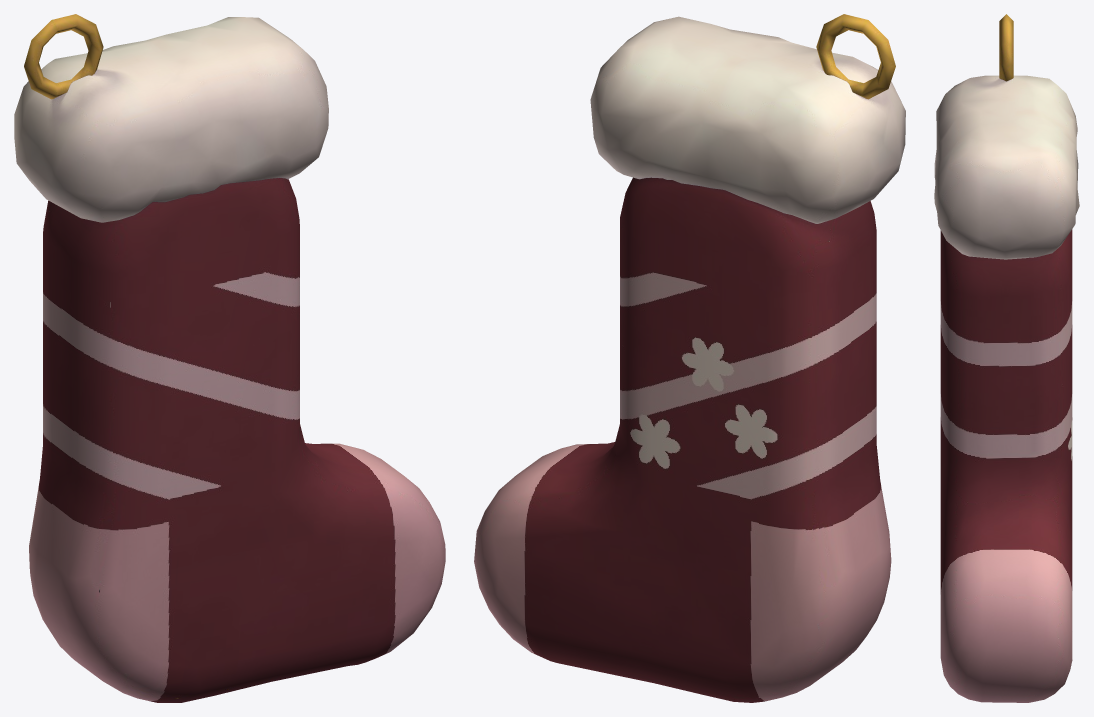
File: stocking.glb
3 views of the same model, side by side, from view 1: azimuth 30°, elevation 25°; view 2: azimuth 150°, elevation 25°; view 3: azimuth 270°, elevation 25° (orthographic). The views are drawn at different scales.
Visible parts, largest first — view 1: Sock, Cuff, Loop; view 2: Sock, Cuff, Loop; view 3: Sock, Cuff, Loop.
Part boxes in pixels (box(x1,y1,x2,y2)): Sock: box(29, 178, 445, 702); Cuff: box(14, 17, 328, 222); Loop: box(24, 14, 103, 99); Sock: box(474, 177, 891, 702); Cuff: box(590, 16, 905, 223); Loop: box(816, 14, 895, 99); Sock: box(940, 229, 1072, 702); Cuff: box(934, 75, 1079, 259); Loop: box(999, 14, 1013, 81).
Size of the model in its own units: 0.3721 by 0.6199 by 0.1437.
Materials: 1 (1 with a texture image).
